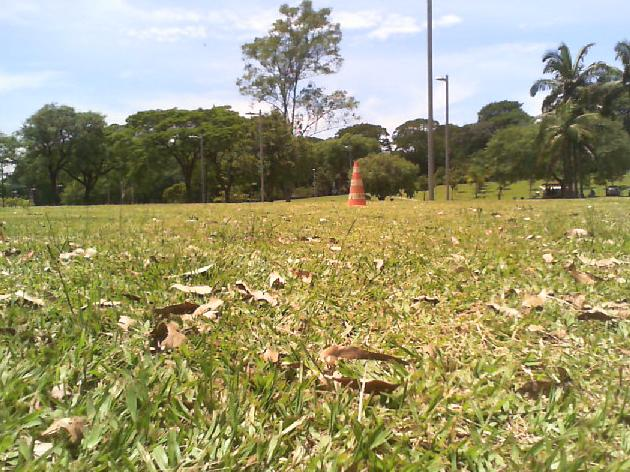0 cone: (346, 161, 370, 209)
